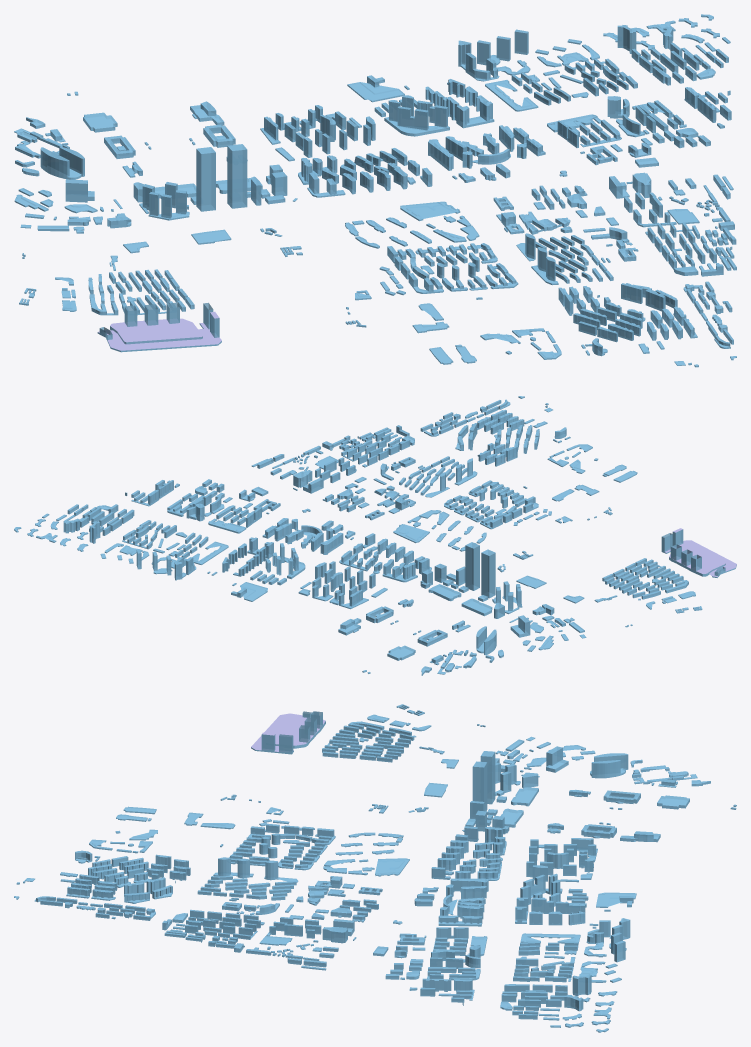
3 views of the same model, one above another, from view 1: azimuth 30°, elevation 25°; view 2: azimuth 150°, elevation 25°; view 3: azimuth 270°, elevation 25° (orthographic). The views are drawn at different scales.
Visible parts, largest first — view 1: Mesh2 Group1 Model, Mesh1 Group1 Model, Mesh90 Model, Mesh444 Model, Mesh447 Model, Mesh530 Model, Mesh548 Model, Mesh222 Model, Mesh332 Model, Mesh224 Model, Mesh491 Model, Mesh64 Model (+6 smaller); view 2: Mesh2 Group1 Model, Mesh1 Group1 Model, Mesh444 Model, Mesh447 Model, Mesh69 Model, Mesh530 Model; view 3: Mesh2 Group1 Model, Mesh1 Group1 Model, Mesh530 Model, Mesh444 Model, Mesh90 Model, Mesh222 Model, Mesh184 Model, Mesh447 Model.
Boxes of the visible parts, bbox=[...] form: Mesh2 Group1 Model: bbox=[110, 302, 202, 344]; Mesh1 Group1 Model: bbox=[97, 302, 221, 352]; Mesh90 Model: bbox=[384, 100, 449, 136]; Mesh444 Model: bbox=[227, 144, 247, 208]; Mesh447 Model: bbox=[196, 147, 215, 211]; Mesh530 Model: bbox=[40, 147, 84, 179]; Mesh548 Model: bbox=[148, 190, 189, 220]; Mesh222 Model: bbox=[465, 53, 530, 81]; Mesh332 Model: bbox=[400, 201, 460, 221]; Mesh224 Model: bbox=[477, 36, 510, 65]; Mesh491 Model: bbox=[347, 82, 404, 102]; Mesh64 Model: bbox=[354, 148, 407, 172]; Mesh2 Group1 Model: bbox=[669, 544, 725, 576]; Mesh1 Group1 Model: bbox=[661, 528, 736, 577]; Mesh444 Model: bbox=[465, 542, 479, 590]; Mesh447 Model: bbox=[481, 549, 495, 598]; Mesh69 Model: bbox=[382, 562, 417, 582]; Mesh530 Model: bbox=[476, 626, 496, 655]; Mesh2 Group1 Model: bbox=[274, 711, 325, 748]; Mesh1 Group1 Model: bbox=[251, 711, 318, 754]; Mesh530 Model: bbox=[590, 753, 628, 778]; Mesh444 Model: bbox=[472, 761, 487, 811]; Mesh90 Model: bbox=[520, 873, 562, 904]; Mesh222 Model: bbox=[584, 920, 610, 957]; Mesh184 Model: bbox=[213, 857, 253, 878]; Mesh447 Model: bbox=[480, 751, 495, 804].
Size of the model in its own units: 118322 by 8000 by 110352.
